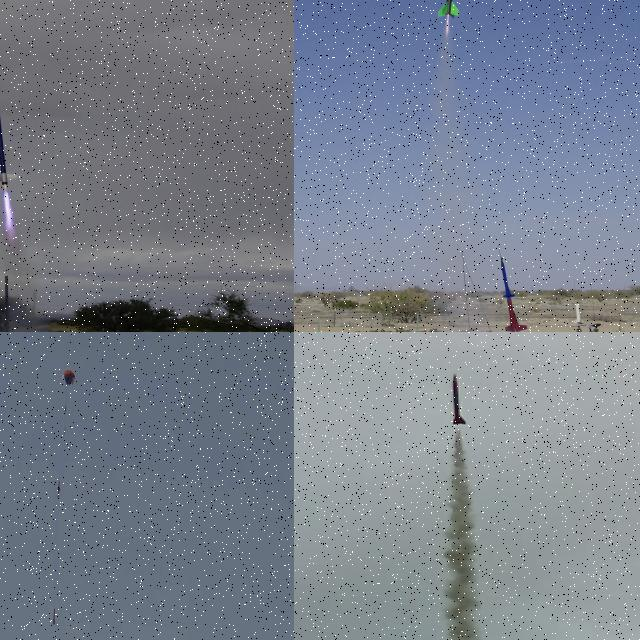Rocket: (0, 66, 18, 185), (500, 256, 528, 332), (451, 373, 466, 425), (436, 0, 460, 19), (573, 303, 584, 324), (52, 607, 56, 626)
